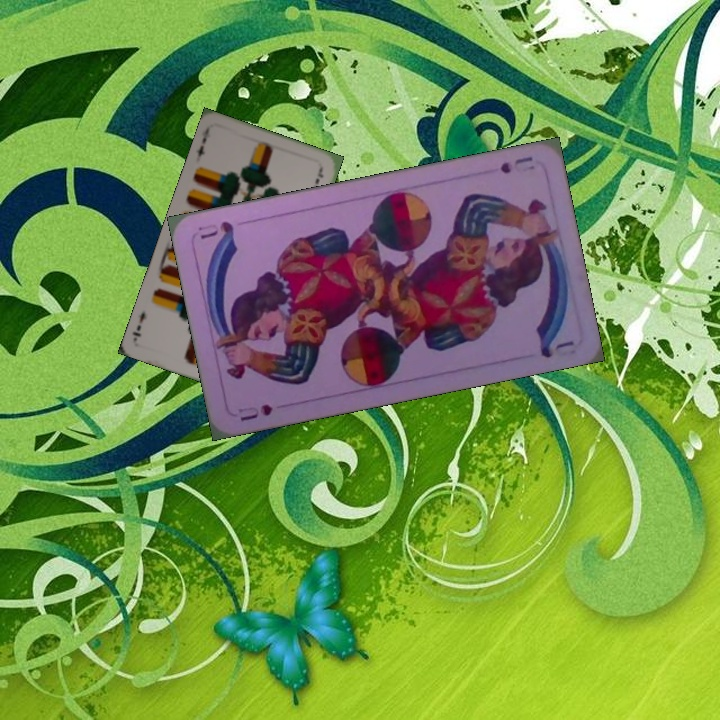E7: (192, 132, 209, 160)
SU: (233, 400, 276, 424), (495, 153, 536, 176)
